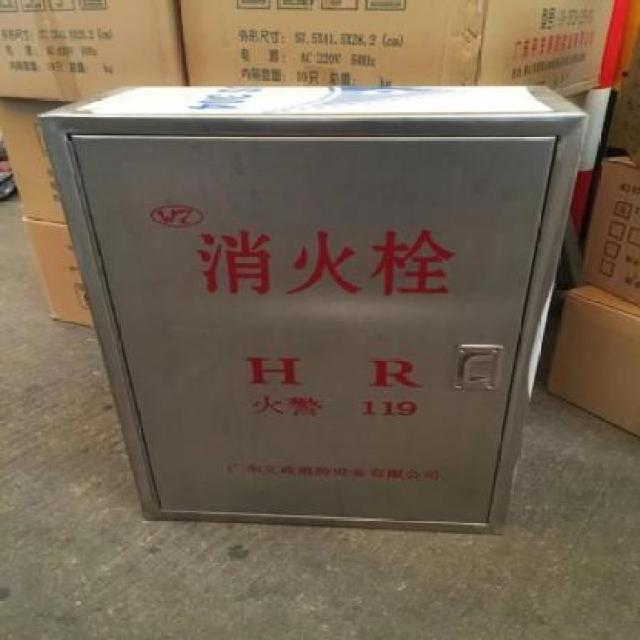firehydrant: (29, 80, 596, 538)
